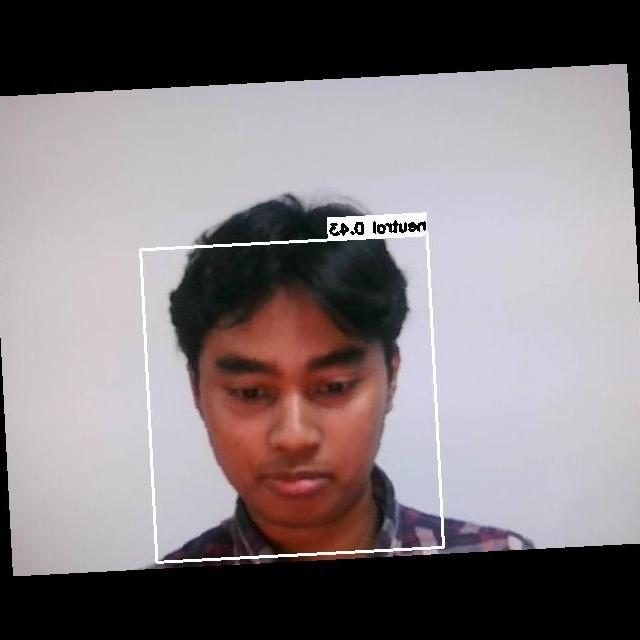Natural: (209, 339, 394, 503)
